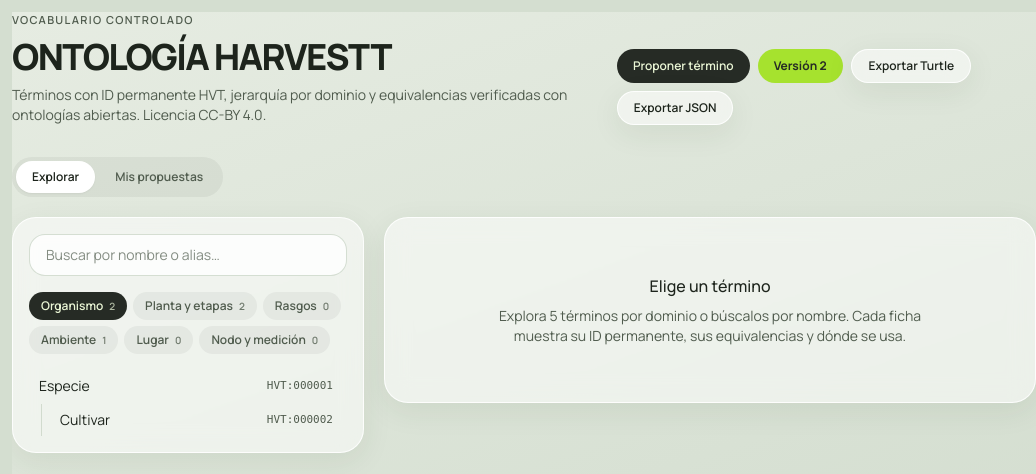
Test: muestra el árbol del dominio activo y cambia al elegir otra pestaña
The width and height of the screenshot is (1036, 474).
Expected: the button "Especie HVT:000001" is shown, [29, 370, 343, 402]
Expected: the button "Cultivar HVT:000002" is shown, [50, 404, 343, 436]
Click the tab "Planta y etapas 2".
click(195, 306)  # box [133, 292, 257, 320]
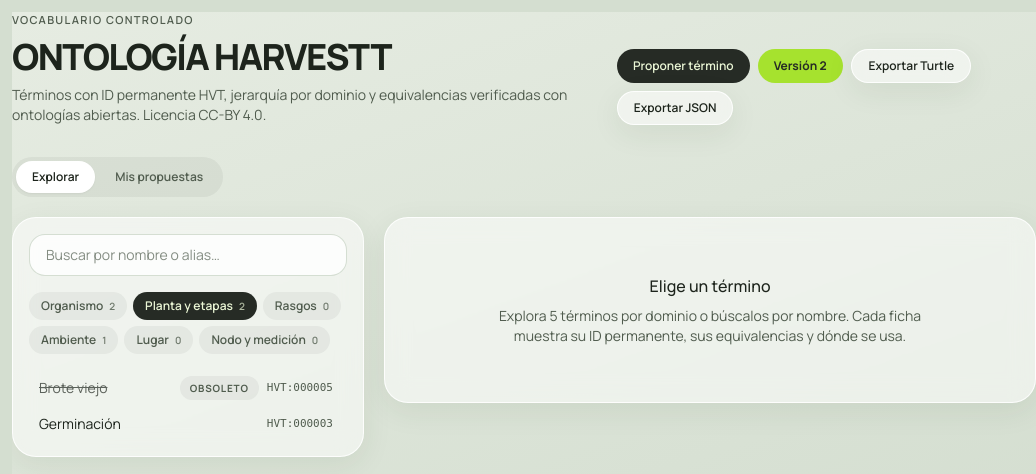
Expected: the button "Germinación HVT:000003" is shown, [29, 408, 343, 440]
